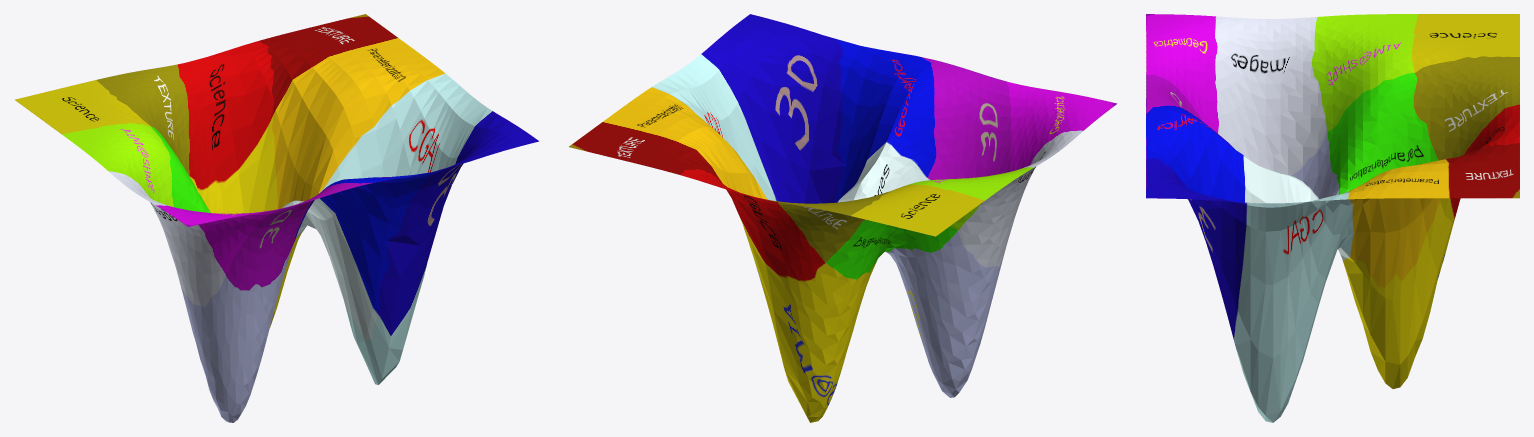
Rendered from test_three_peaks_uniform_square.obj.
The picture shows the model from 3 angles, left to right: view 1: azimuth 30°, elevation 25°; view 2: azimuth 150°, elevation 25°; view 3: azimuth 270°, elevation 25°; orthographic projection. The views are drawn at different scales.
Bounding box in the file's own units: 20 × 14.33 × 17.14.
Materials: 1 (1 with a texture image).
